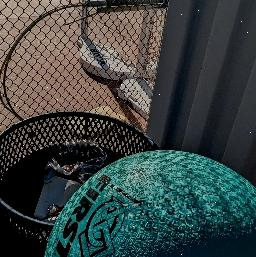algae: (42, 148, 256, 257)
